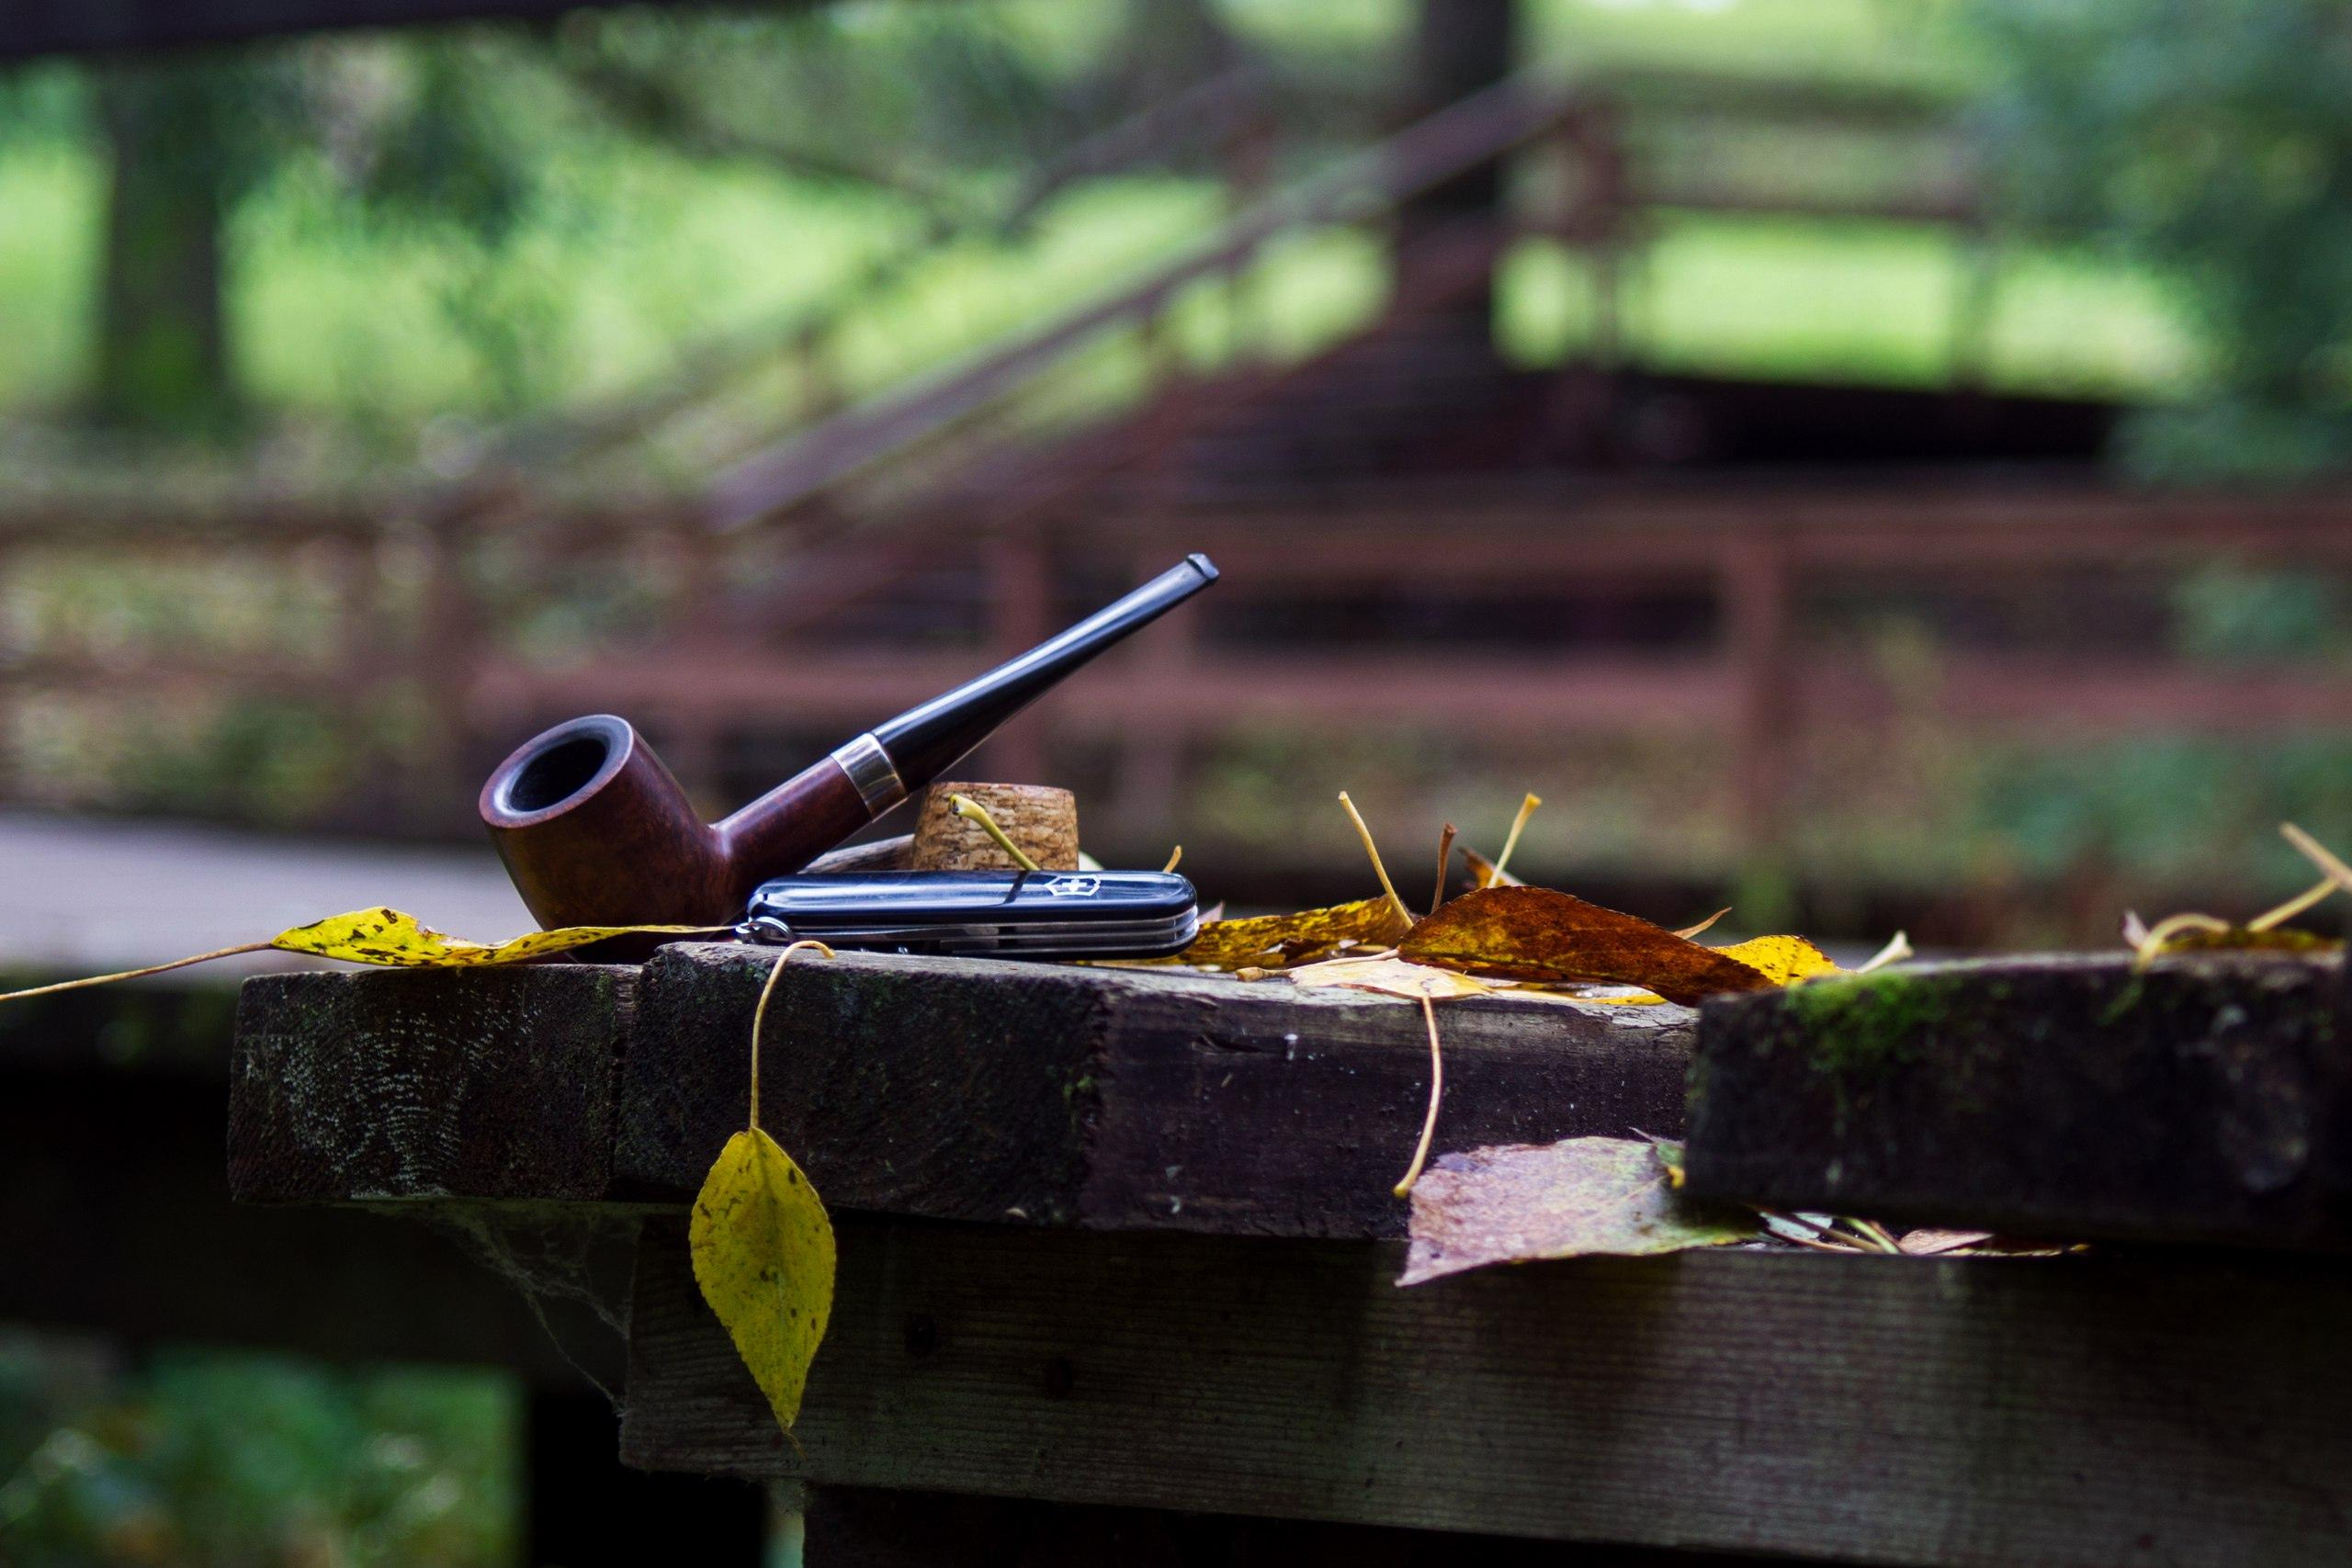trubka: (479, 553, 1218, 929)
